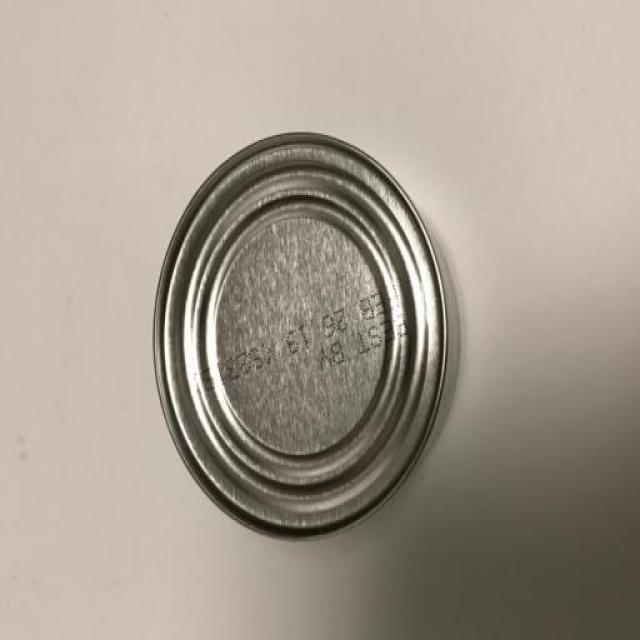metel: (152, 125, 503, 567)
